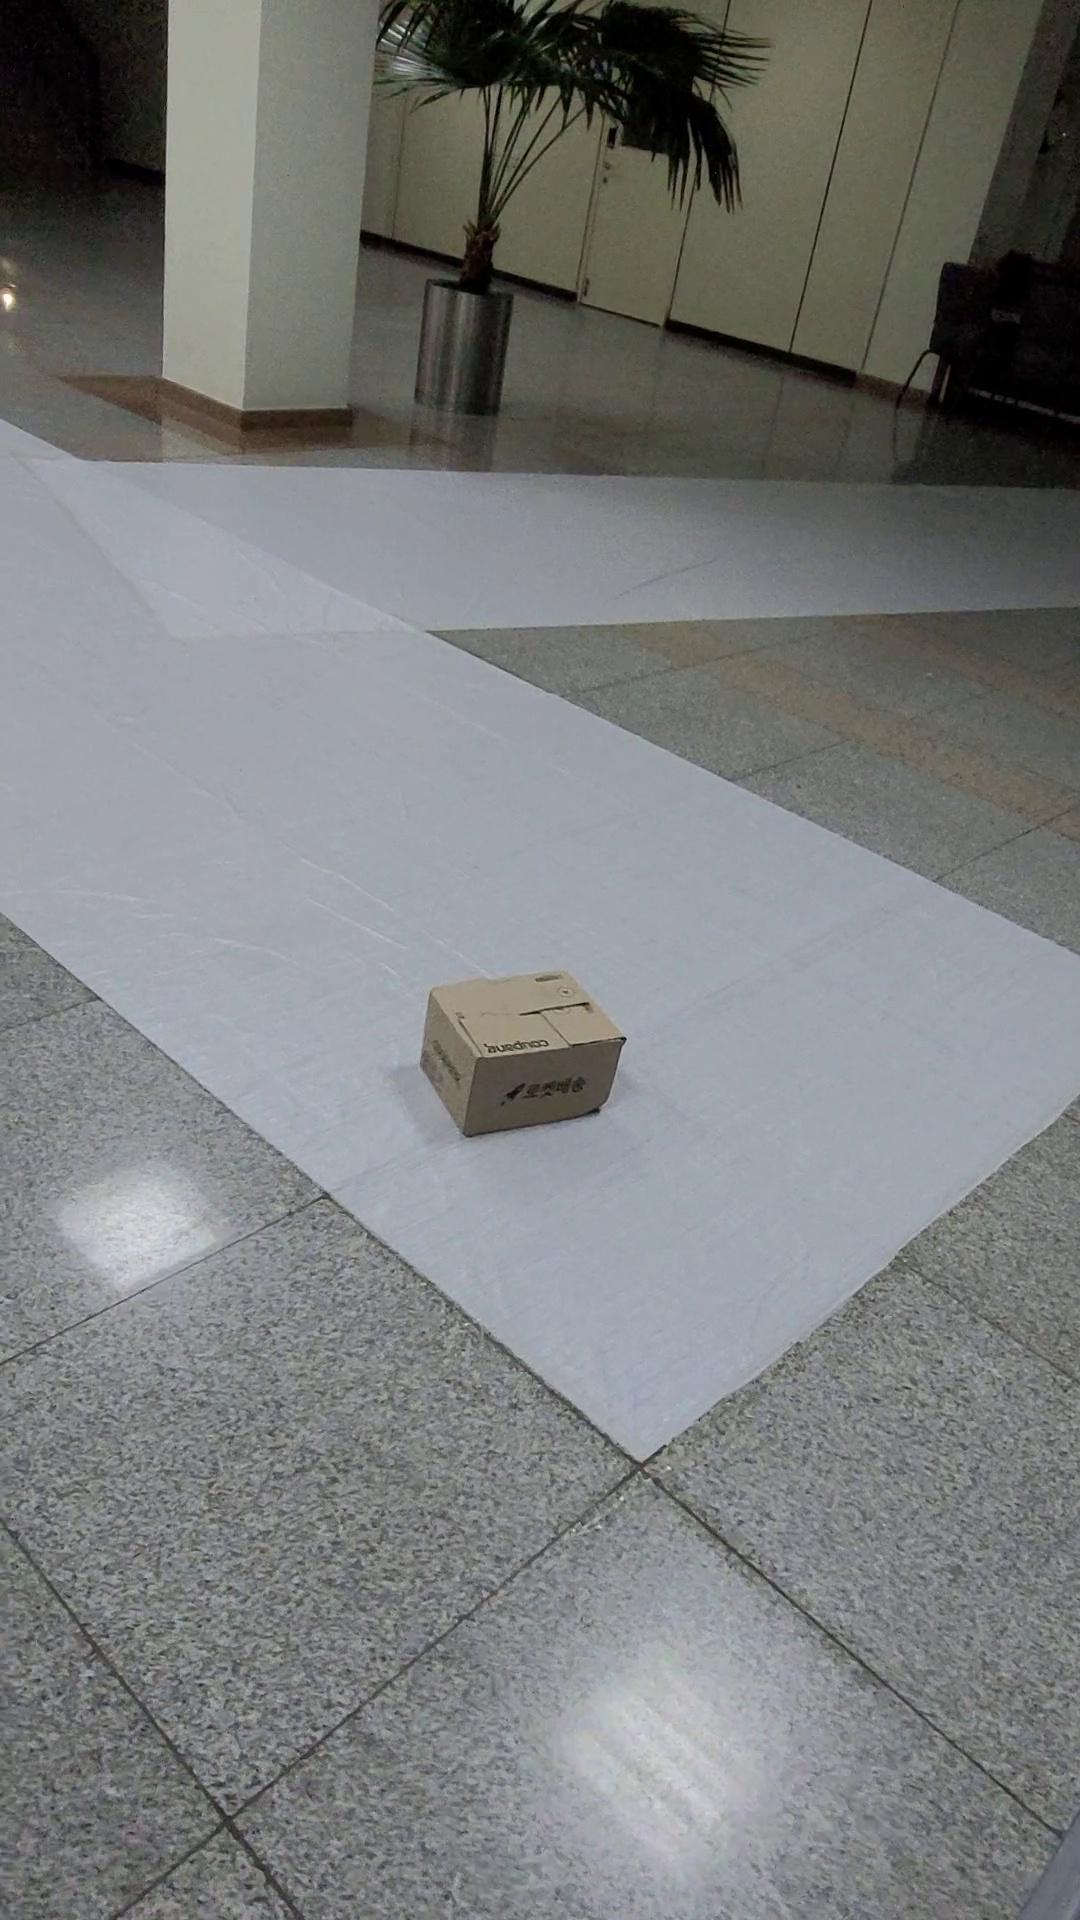Box: (398, 928, 692, 1130)
